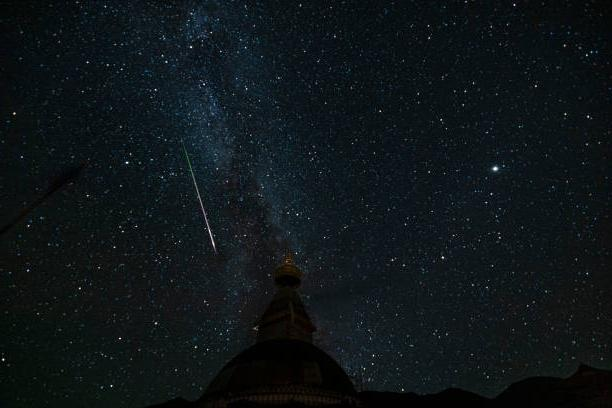meteorite: (186, 166, 221, 254)
